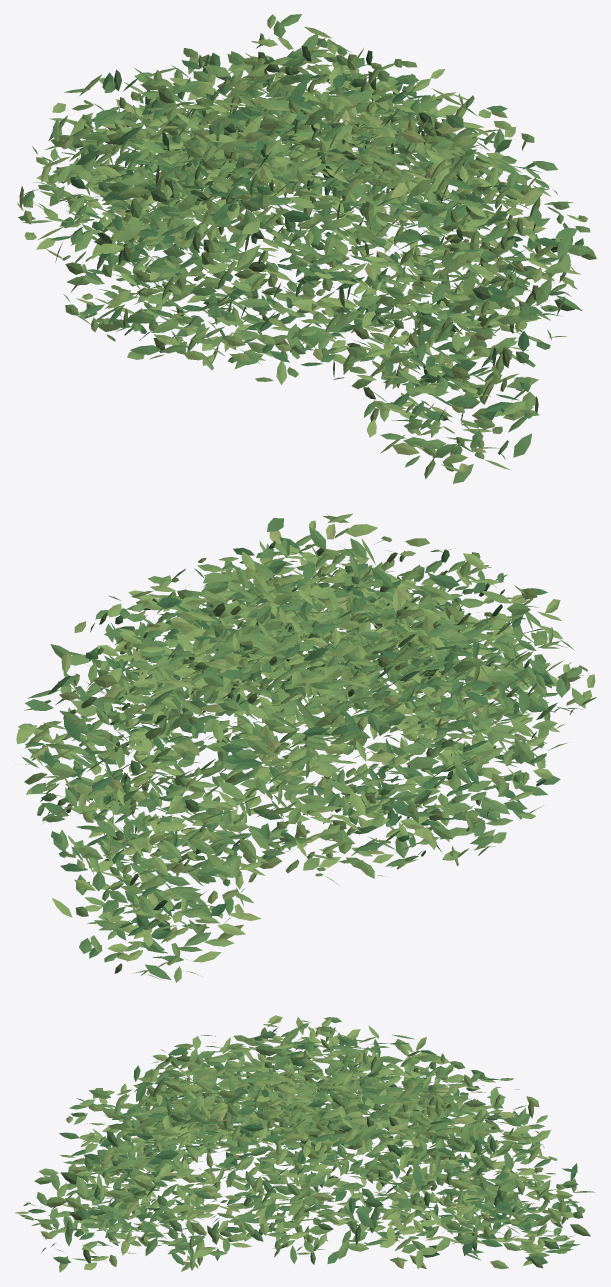
The model's file is holy_canopy3_crown.glb.
The picture shows the model from 3 angles, top to bottom: view 1: azimuth 30°, elevation 25°; view 2: azimuth 150°, elevation 25°; view 3: azimuth 270°, elevation 25°; orthographic projection. The views are drawn at different scales.
Visible parts, largest first — view 1: holy_canopy3; view 2: holy_canopy3; view 3: holy_canopy3.
Boxes of the visible parts, x1,y1,x2,y2 form: holy_canopy3: (17,14,596,483); holy_canopy3: (16,513,596,982); holy_canopy3: (15,1015,594,1272).
Size of the model in its own units: 20.55 by 13.34 by 30.12.
1 material, 1 textured.
